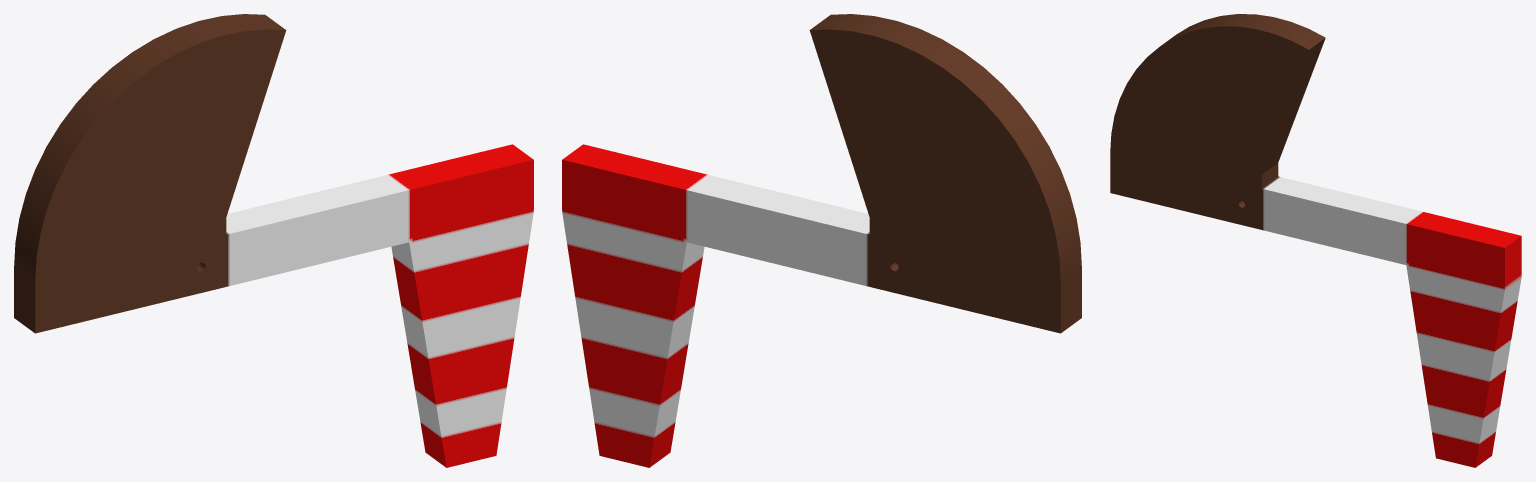
The model's file is JINTECH - Flag_Model.fbx.
3 views of the same model, side by side, from view 1: azimuth 30°, elevation 25°; view 2: azimuth 150°, elevation 25°; view 3: azimuth 330°, elevation 25° (orthographic). The views are drawn at different scales.
Parts seen in each view (by area): view 1: Body3; view 2: Body3; view 3: Body3.
Boxes of the visible parts, bbox=[...] form: Body3: bbox=[14, 14, 533, 467]; Body3: bbox=[562, 14, 1081, 467]; Body3: bbox=[1110, 14, 1521, 467].
Size of the model in its own units: 30 by 28 by 2.2.
